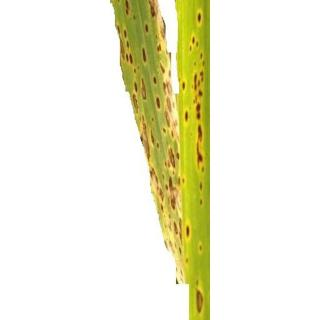bercak-Cokelat: (137, 113, 160, 159), (192, 127, 209, 179), (148, 165, 165, 212), (192, 73, 208, 122), (117, 23, 134, 65), (168, 174, 184, 212), (133, 76, 150, 103), (165, 144, 182, 170), (164, 112, 179, 140), (166, 216, 181, 240), (194, 287, 205, 316), (138, 46, 151, 67), (187, 34, 203, 51), (195, 9, 208, 29), (141, 21, 155, 37), (181, 110, 192, 130), (183, 221, 193, 242), (197, 54, 209, 69), (197, 180, 205, 201), (151, 74, 161, 90), (155, 95, 164, 112), (196, 243, 206, 258), (181, 78, 187, 94)
